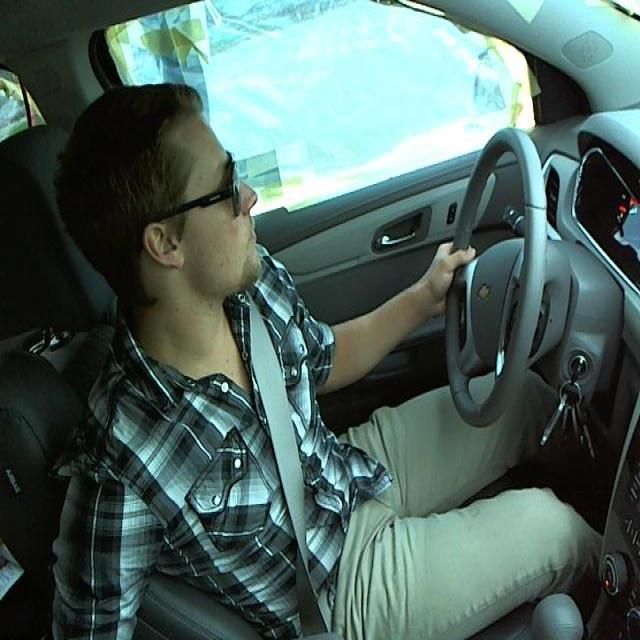seatbelt: (227, 320, 338, 636)
